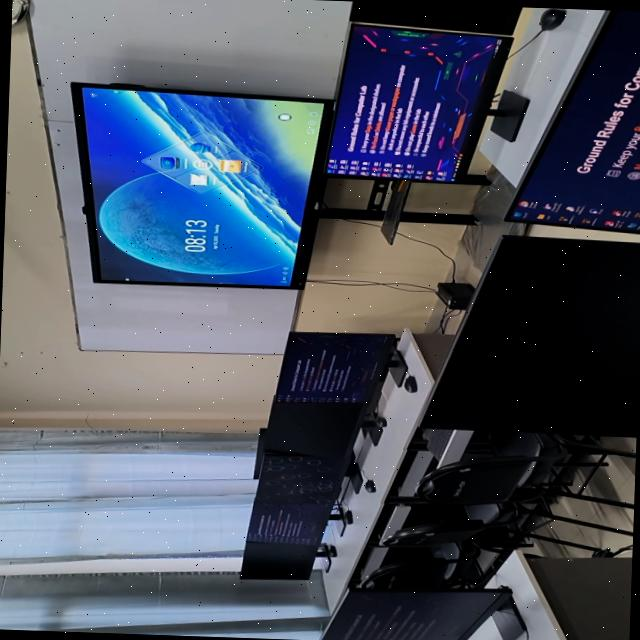Chair: (415, 433, 636, 509), (379, 502, 595, 552), (358, 542, 530, 590)
Digital board: (69, 82, 330, 289)
Keyboard: (421, 428, 451, 460)
Monitor: (420, 236, 640, 438), (504, 10, 640, 234), (325, 25, 511, 183), (319, 587, 510, 640), (273, 332, 393, 403), (262, 395, 361, 459), (350, 1, 520, 34), (255, 455, 341, 503), (246, 503, 328, 545), (239, 540, 322, 579), (330, 417, 338, 420)
Mouse: (538, 8, 564, 30), (314, 544, 335, 558), (403, 375, 415, 392), (341, 510, 351, 524), (373, 416, 385, 427), (363, 480, 374, 492)
